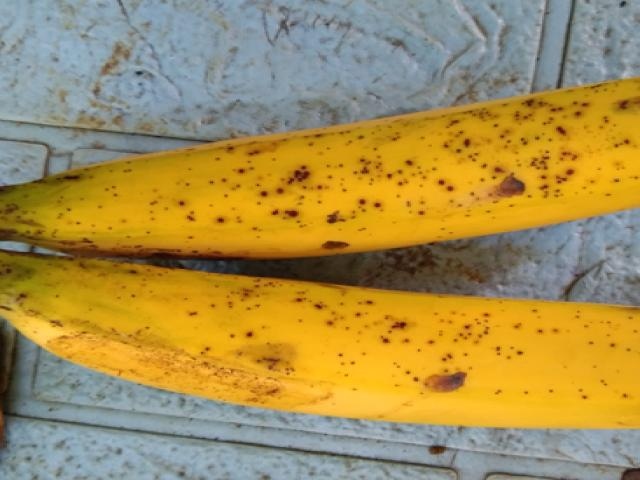ripe: (74, 239, 639, 465), (33, 63, 639, 261)
